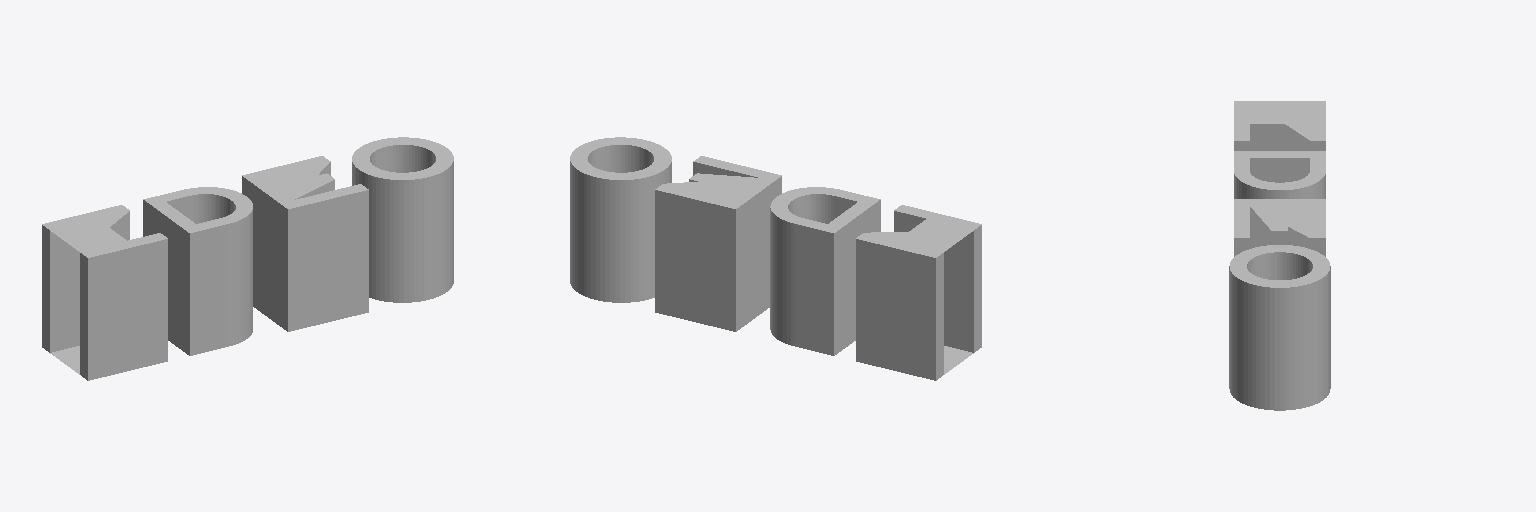
Rendered from IDEO.obj.
The picture shows the model from 3 angles: view 1: azimuth 30°, elevation 25°; view 2: azimuth 150°, elevation 25°; view 3: azimuth 270°, elevation 25°; orthographic projection.
Bounding box in the file's own units: 6.19 × 1.9 × 1.42.